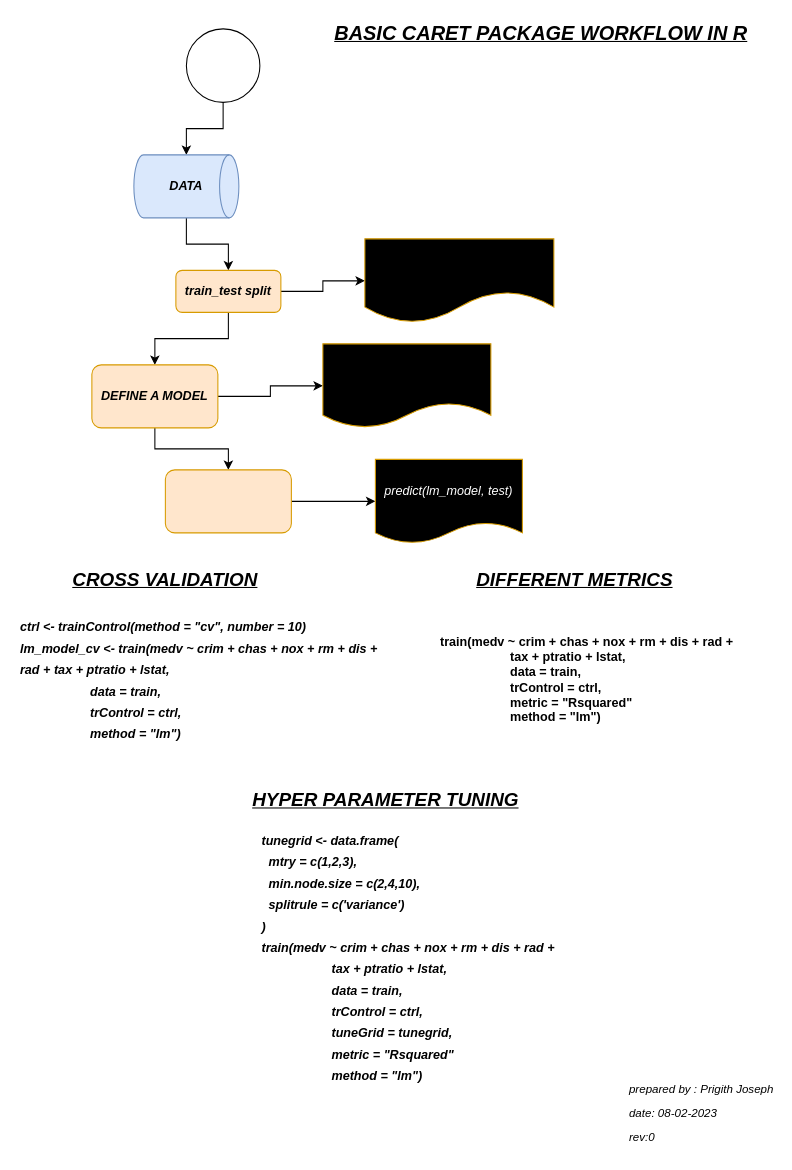
The diagram is 792 pixels wide and 1170 high, and some of its shapes have lost their labels. Each missing label, with the centre of its shape:
createDataPartition(y, p=0.8, list = FALSE): (459,280)
PREDICT THE MODEL: (227,501)
START: (222,65)
train(medv ~., data = train, method = 'lm'): (406,385)
